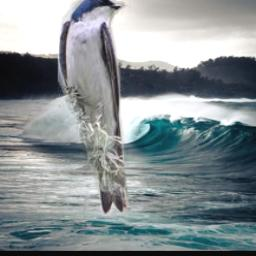Swallow: (58, 0, 131, 217)
